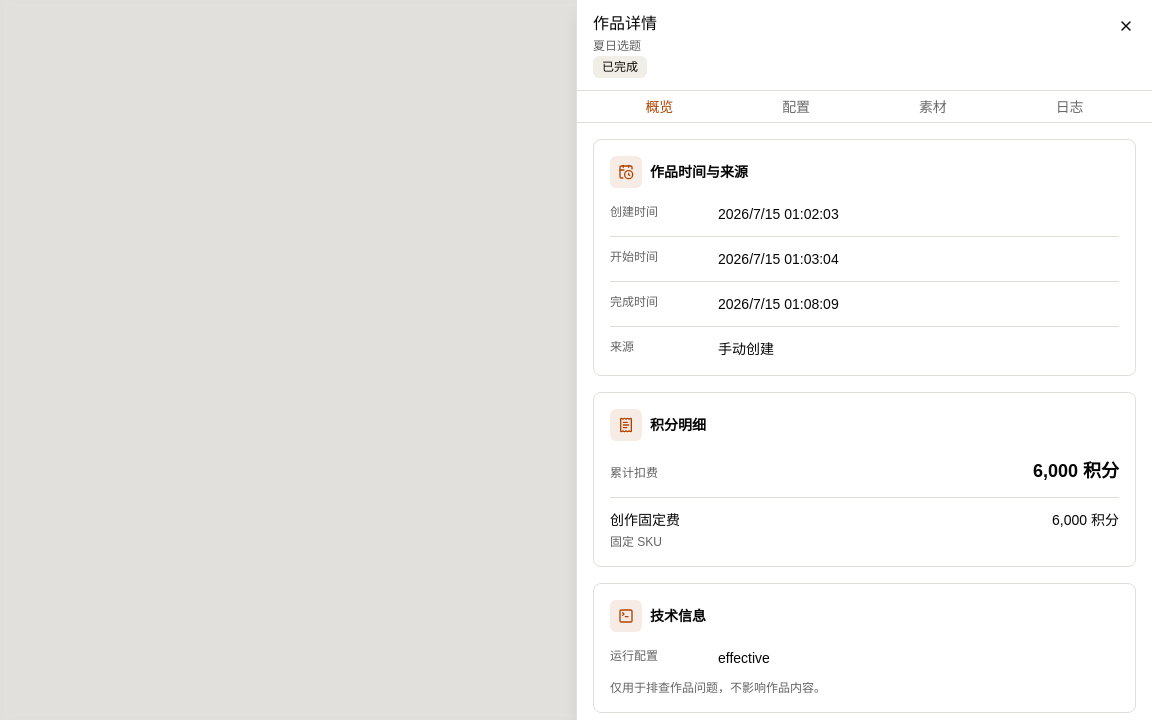
it: TaskDetailsSheet › shows the compact task input fallback on Materials
Click the tab "素材" at (933,106), box [866,84,999,128]
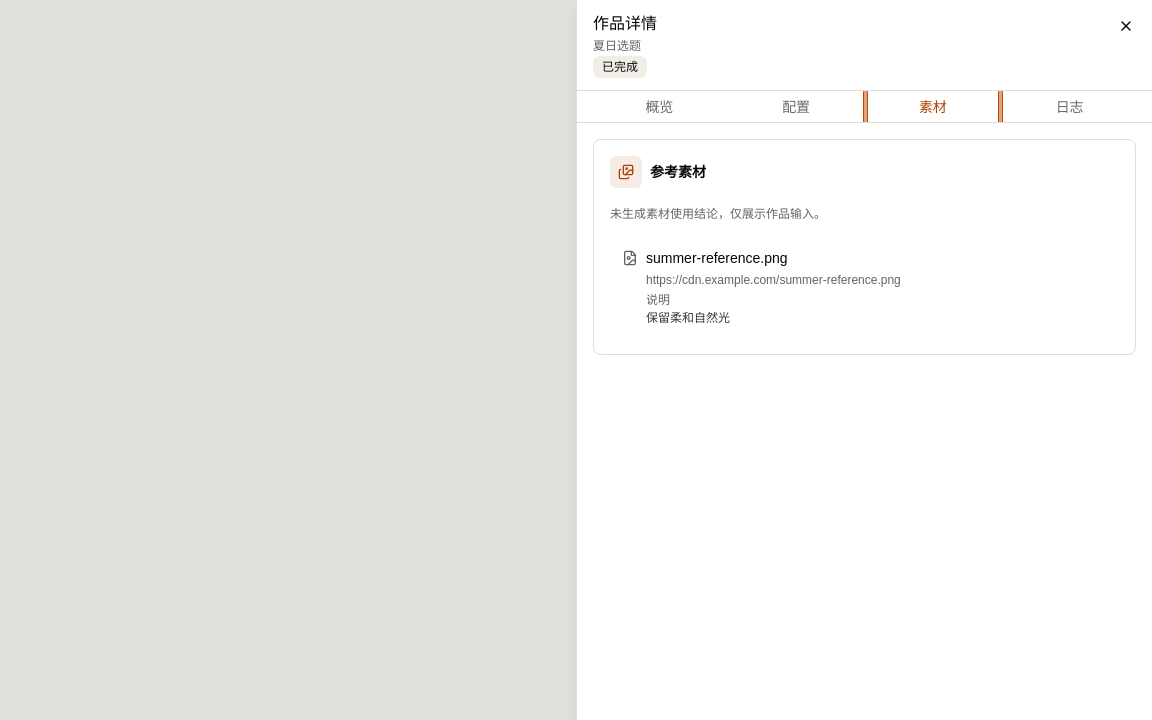
Expected: the text "未生成素材使用结论，仅展示作品输入。" is shown, [610,207,826,221]
Expected: the text "summer-reference.png" is shown, [646,250,788,266]
Expected: the text "保留柔和自然光" is shown, [646,311,730,325]
